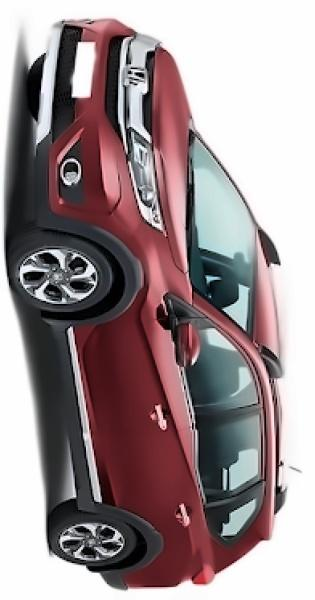Car hood: (149, 44, 196, 278)
Fender - -F-L-: (60, 214, 200, 331)
Fender - -R-L-: (119, 531, 218, 575)
Front bumper: (26, 11, 134, 251)
Headlight - -L-: (120, 129, 171, 239)
Passenger-s door - -F-L-: (73, 330, 268, 431)
Passenger-s door - -R-L-: (77, 432, 276, 533)
Rear bumper: (86, 556, 164, 593)
Rear light - -L-: (178, 555, 222, 591)
Side bumper - -L-: (41, 311, 105, 519)
Side mirror - -L-: (161, 306, 207, 372)
